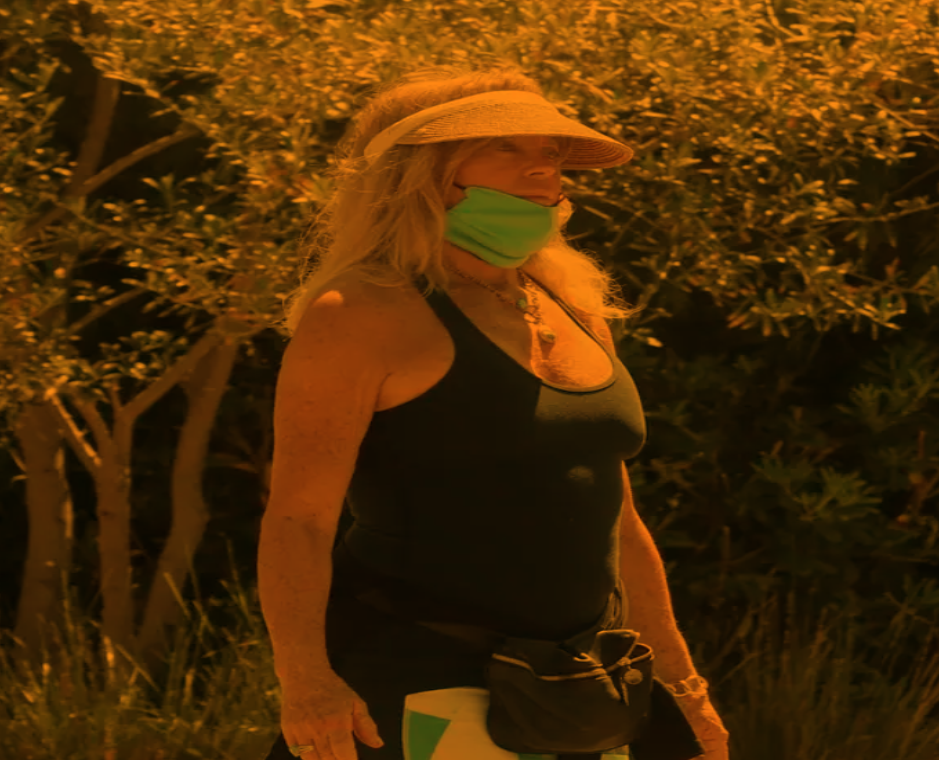mask_weared_incorrect: (348, 72, 619, 275)
